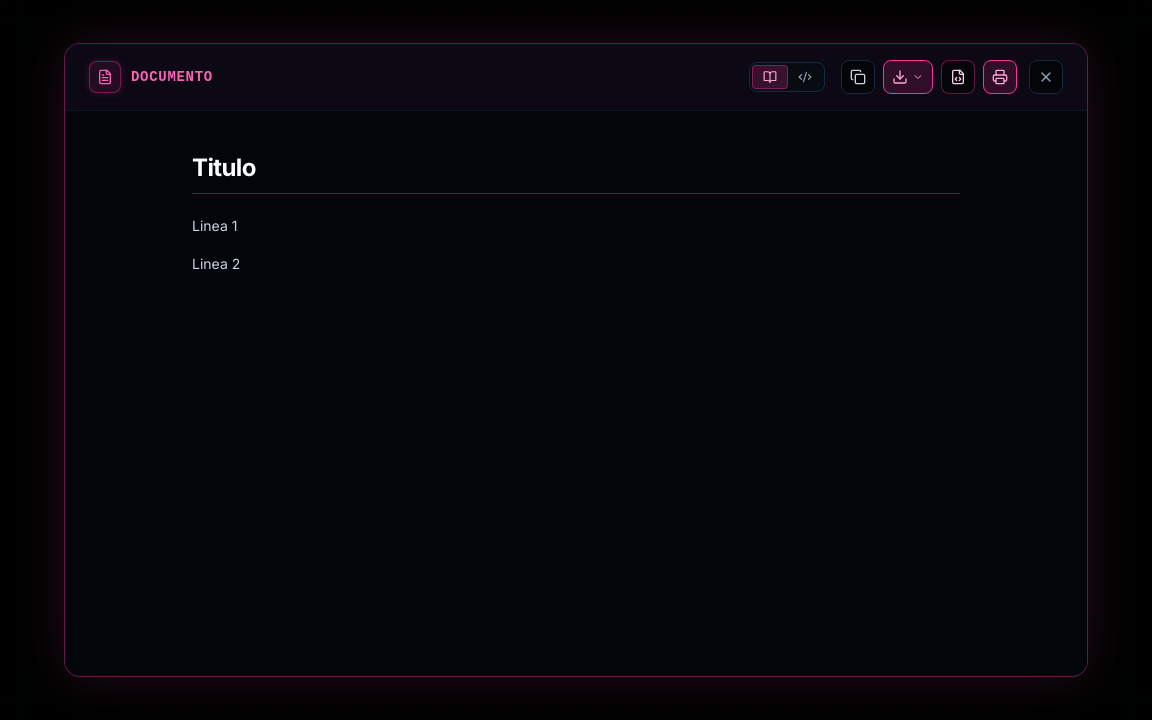
Test case: DocumentModal.vue › toggles between preview and raw markdown tabs
// Switch to raw tab
Click the button with test id "doc-tab-raw" at {"x": 805, "y": 77}, box [788,66,822,88]
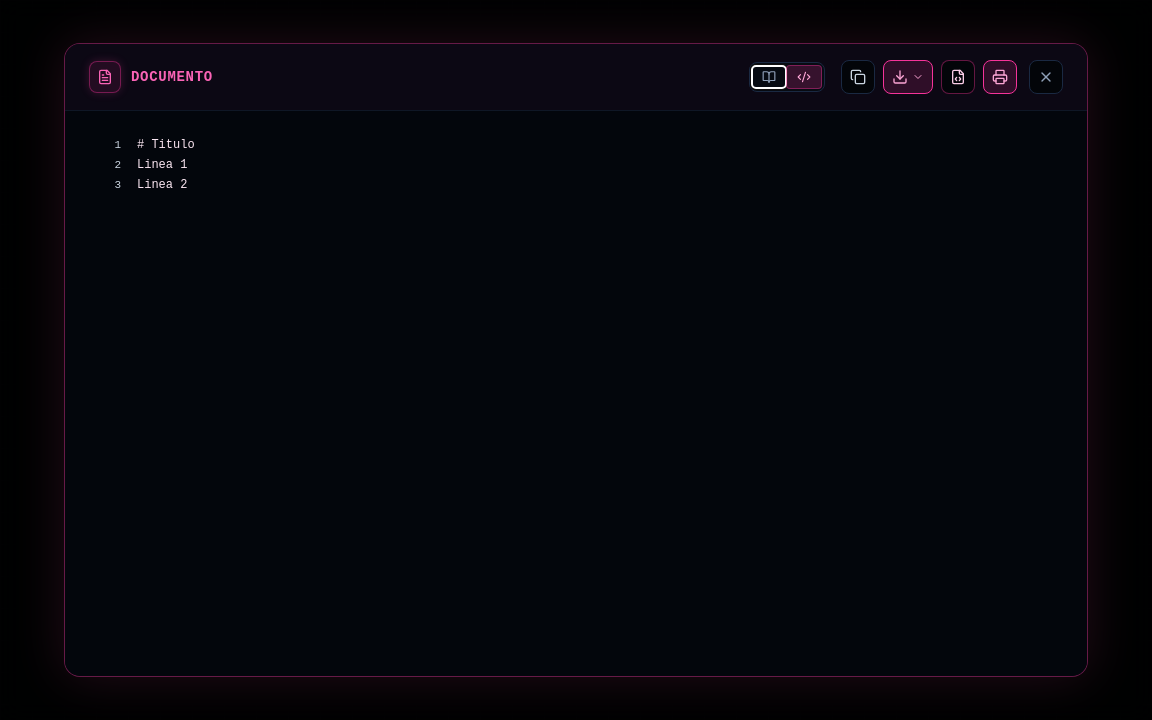
expect the element with test id "document-raw-container" is shown: met
// Switch back to preview
Click the button with test id "doc-tab-preview" at {"x": 769, "y": 77}, box [752,66,786,88]
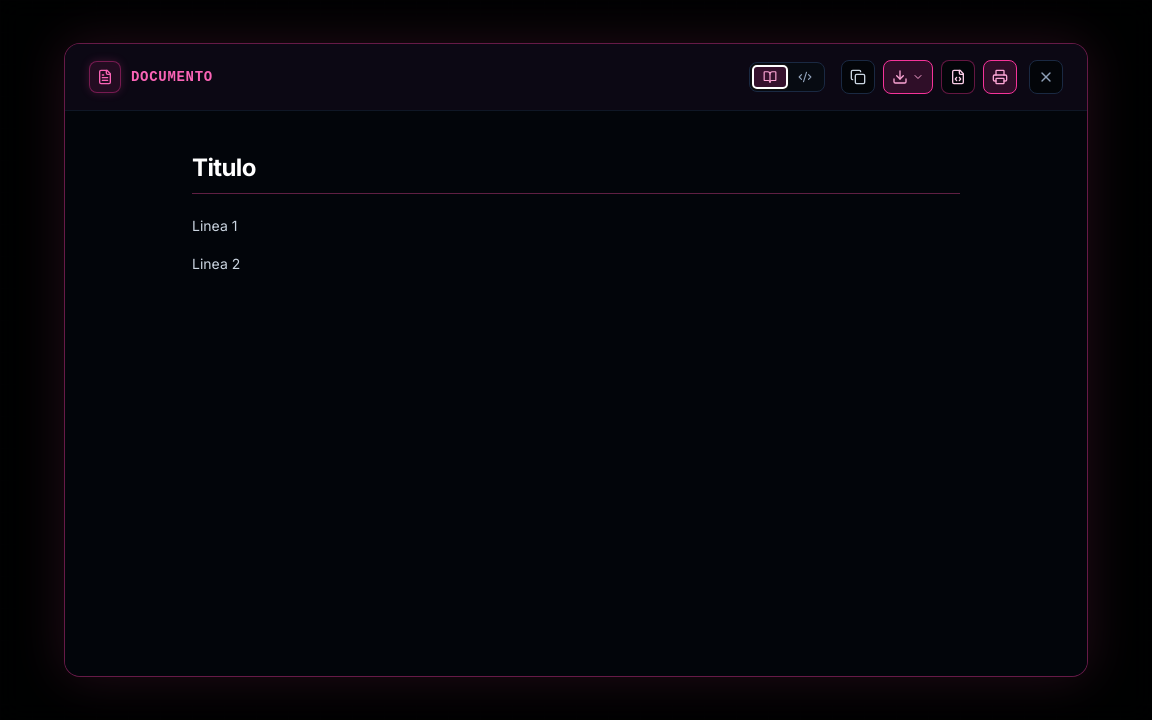
expect the element with test id "document-preview-container" is shown: met
